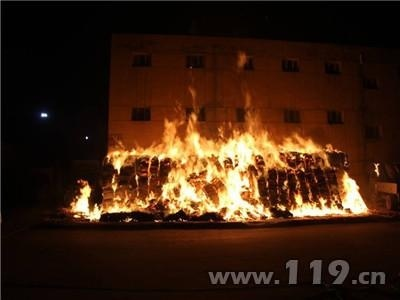fire: (78, 94, 375, 226)
